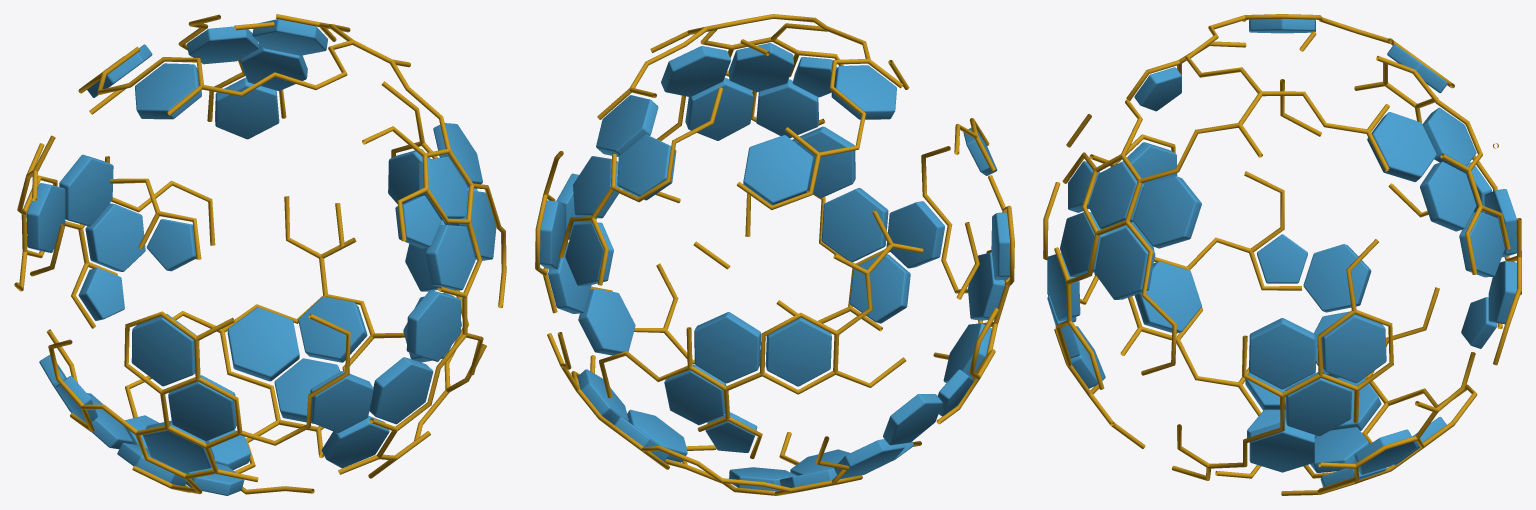
Rendered from shieldf0025blue.obj.
The picture shows the model from 3 angles, left to right: view 1: azimuth 30°, elevation 25°; view 2: azimuth 150°, elevation 25°; view 3: azimuth 270°, elevation 25°; orthographic projection. The views are drawn at different scales.
Visible parts, largest first — view 1: Plane, Plane.001; view 2: Plane, Plane.001; view 3: Plane, Plane.001.
Part boxes in pixels (bbox=[...]): Plane: bbox=[26, 19, 496, 495]; Plane.001: bbox=[14, 14, 506, 494]; Plane: bbox=[540, 43, 1009, 490]; Plane.001: bbox=[535, 14, 1014, 495]; Plane: bbox=[1047, 19, 1516, 487]; Plane.001: bbox=[1043, 14, 1521, 495].
Bounding box in the file's own units: 3.44 × 3.47 × 3.44.
